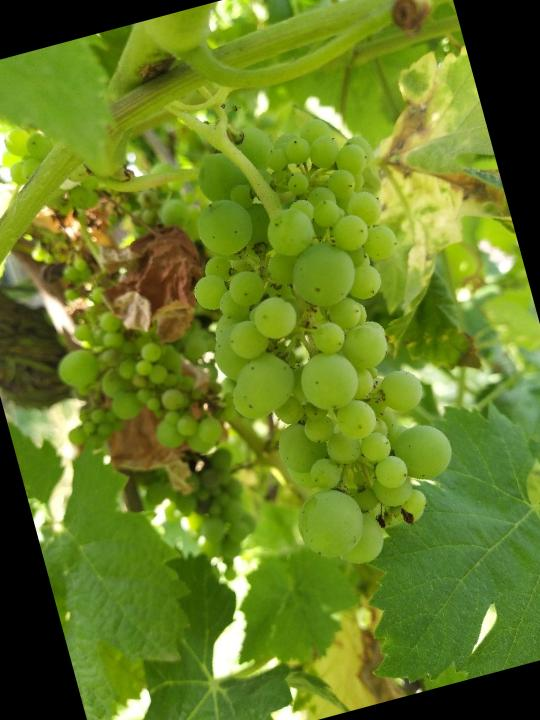grape: (157, 94, 478, 590)
